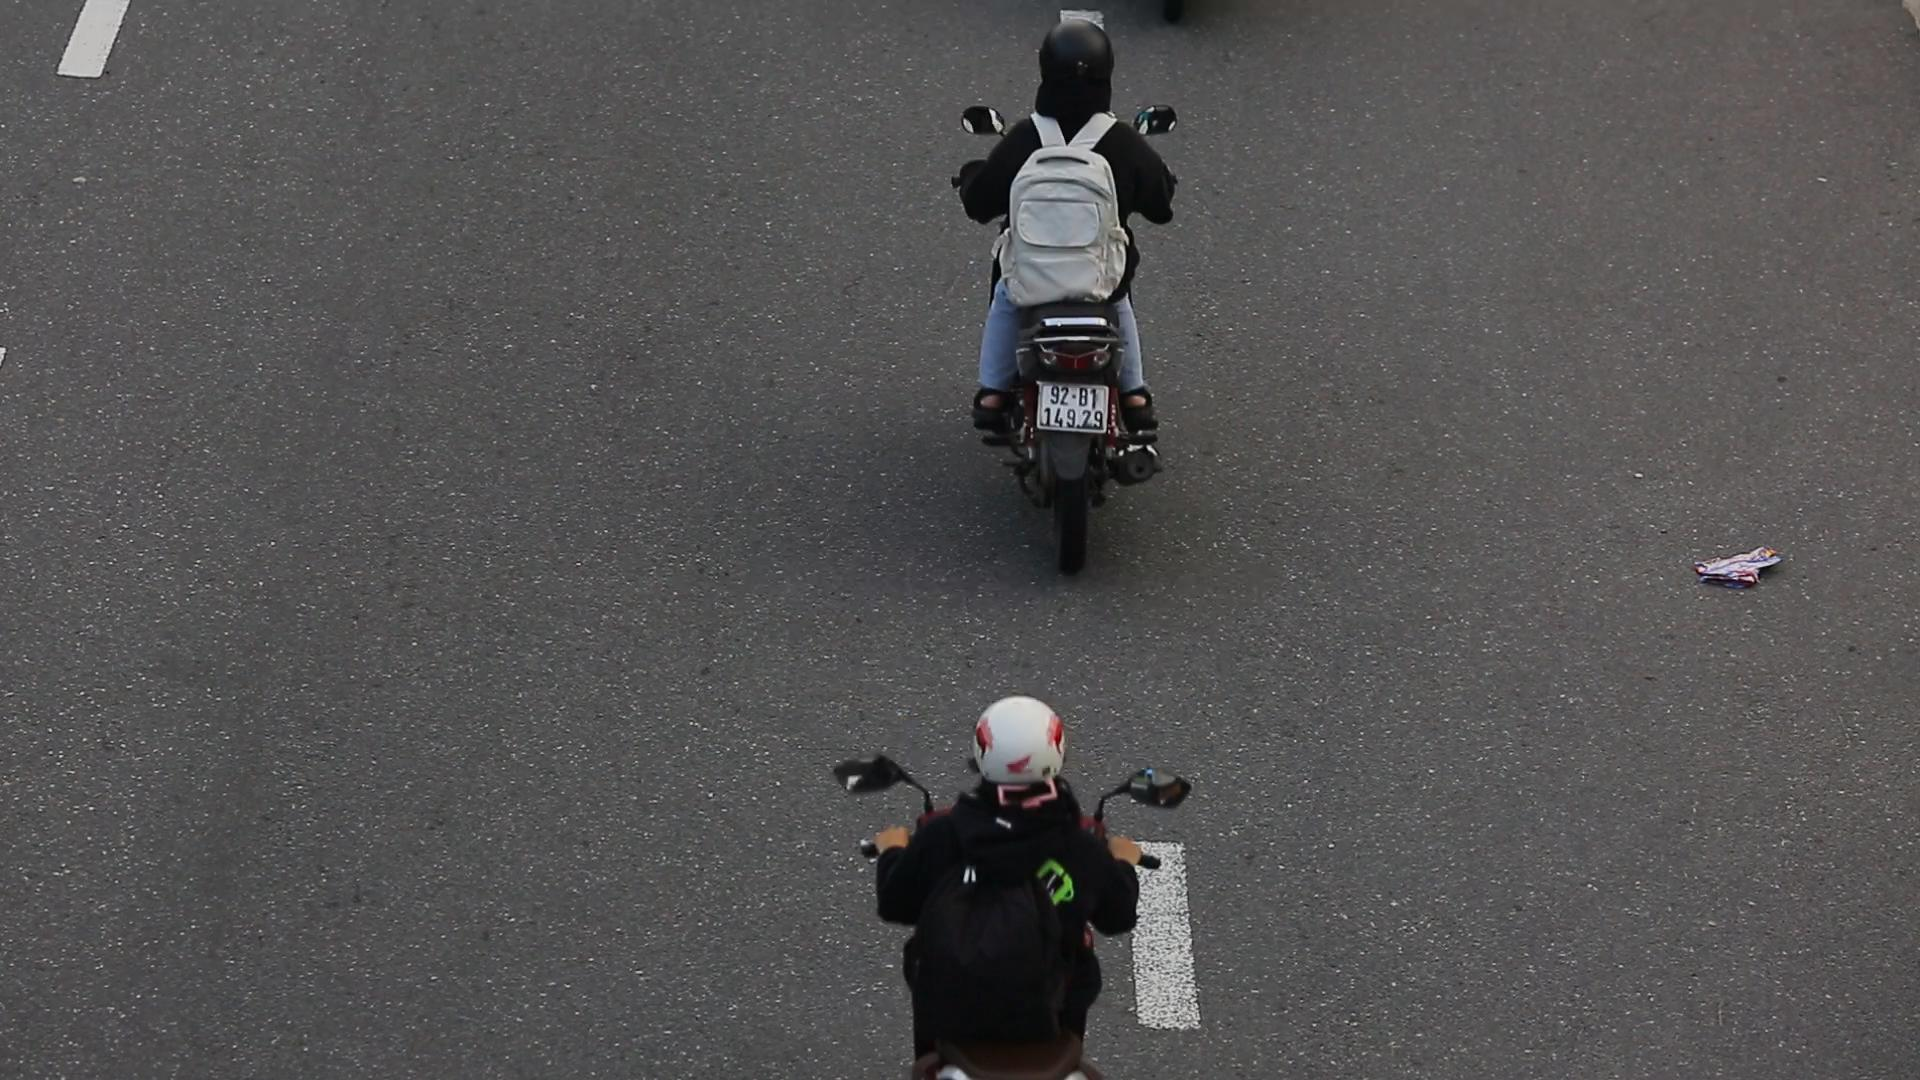motobike: (944, 15, 1191, 588)
